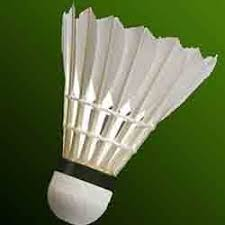shuttle: (52, 9, 220, 224)
